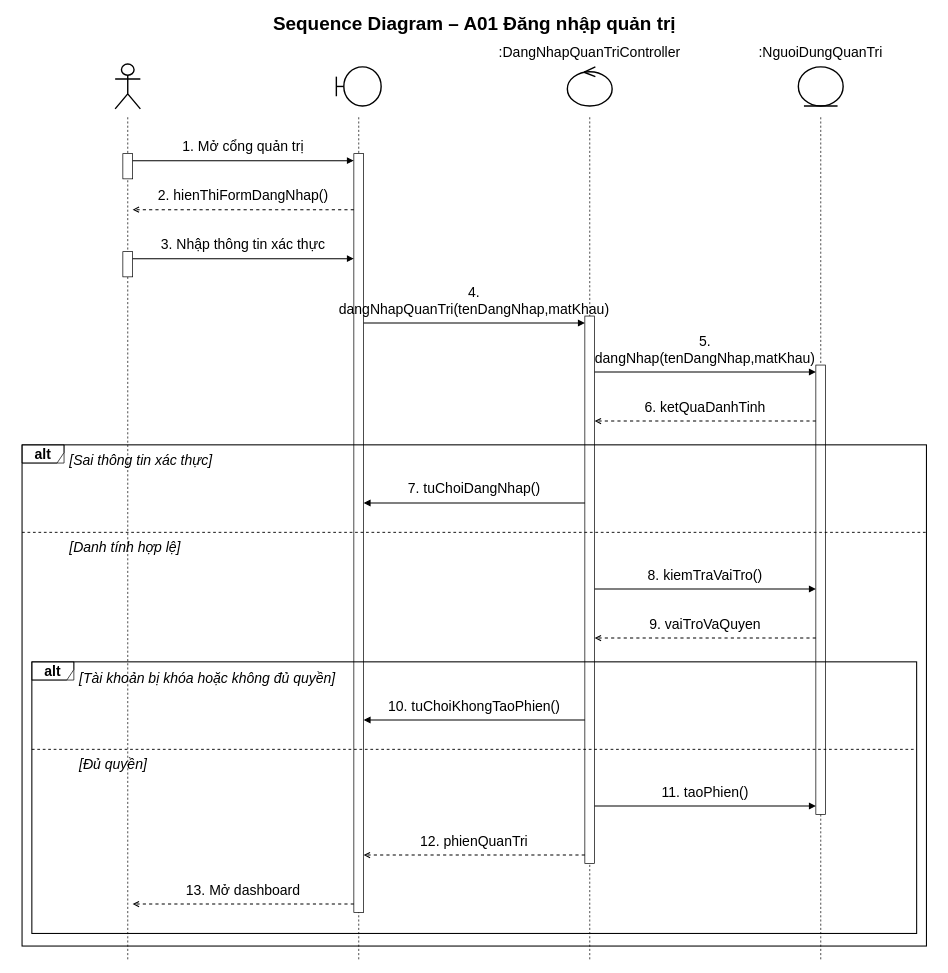
Some shapes in this 948 by 973 pixel diagram are drawn without their labels. The shapes that lost their labels are listed below. From the top down, each one's centre as x and y in pixels, then its label:
At (127,86): ":Quản trị viên".
At (358,86): ":DangNhapQuanTriPage".
